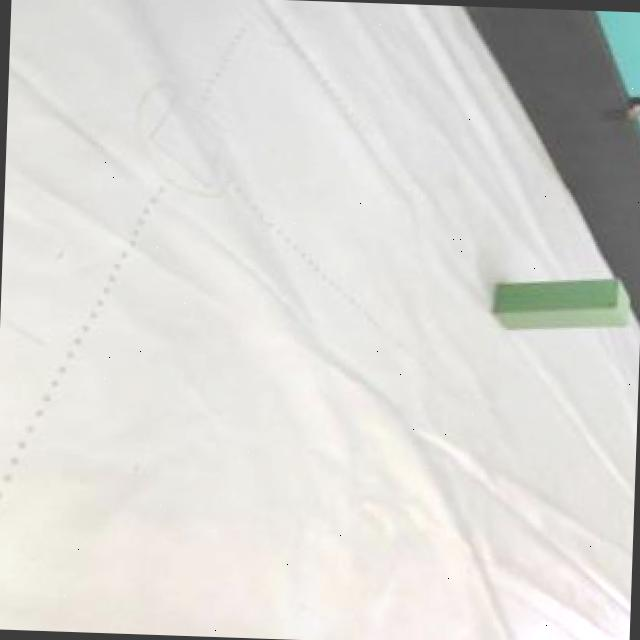greenbox: (489, 271, 632, 332)
